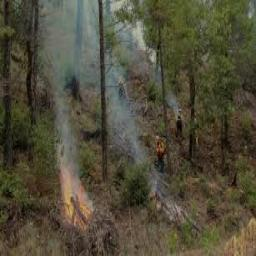Low smoke: (43, 0, 163, 166)
Small fire: (57, 164, 95, 231)
